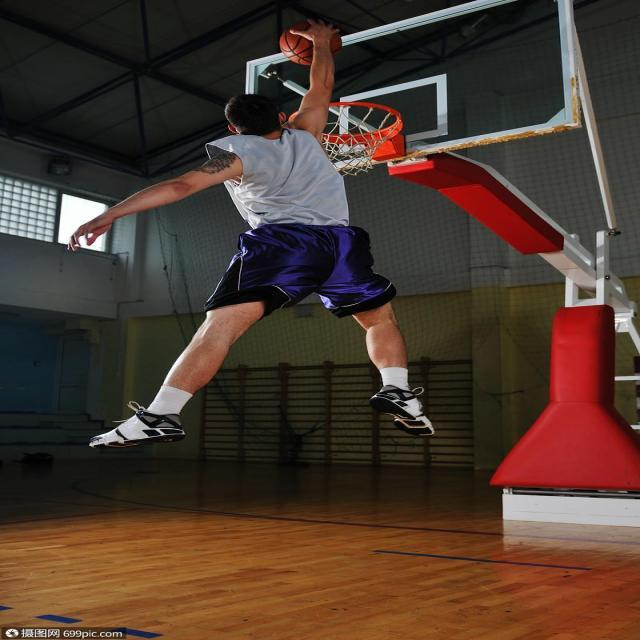rim: (280, 23, 338, 64)
